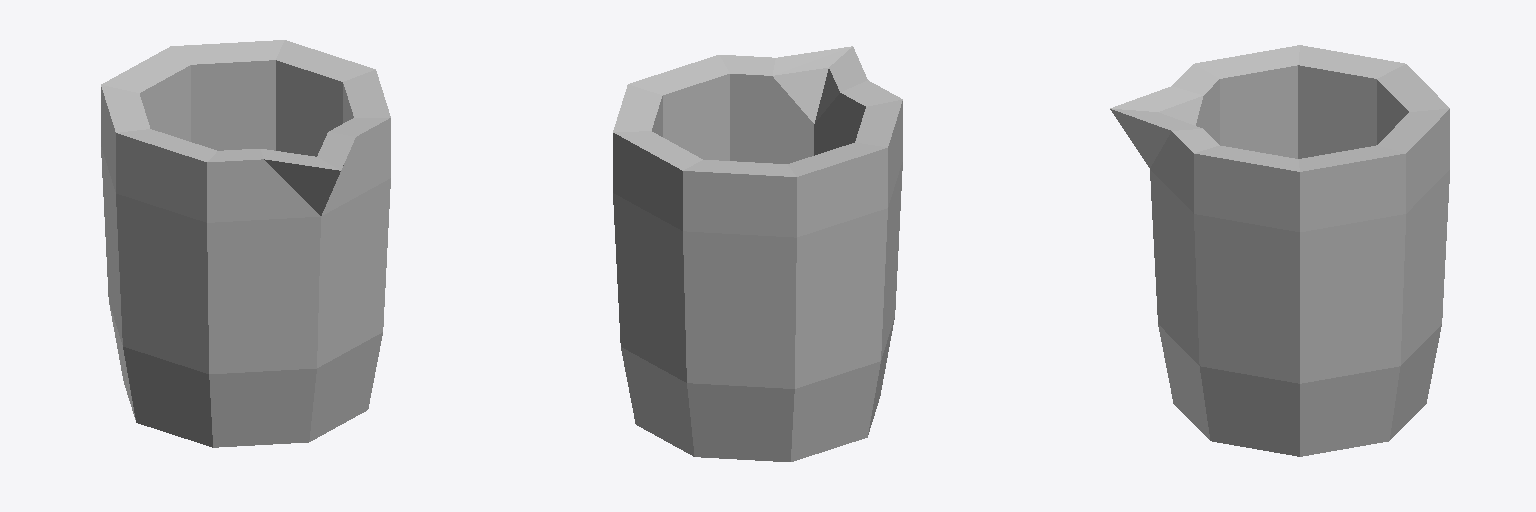
Rendered from Melting Crucible 1.obj.
3 renders of one model, left to right at view 1: azimuth 30°, elevation 25°; view 2: azimuth 150°, elevation 25°; view 3: azimuth 270°, elevation 25°, orthographic.
Visible parts, largest first — view 1: Crucible; view 2: Crucible; view 3: Crucible.
Boxes of the visible parts, box(x1,y1,x2,y2) form: Crucible: box(101, 40, 390, 447); Crucible: box(613, 46, 902, 461); Crucible: box(1110, 45, 1449, 456).
Bounding box in the file's own units: 2.13 × 2.31 × 2.42.